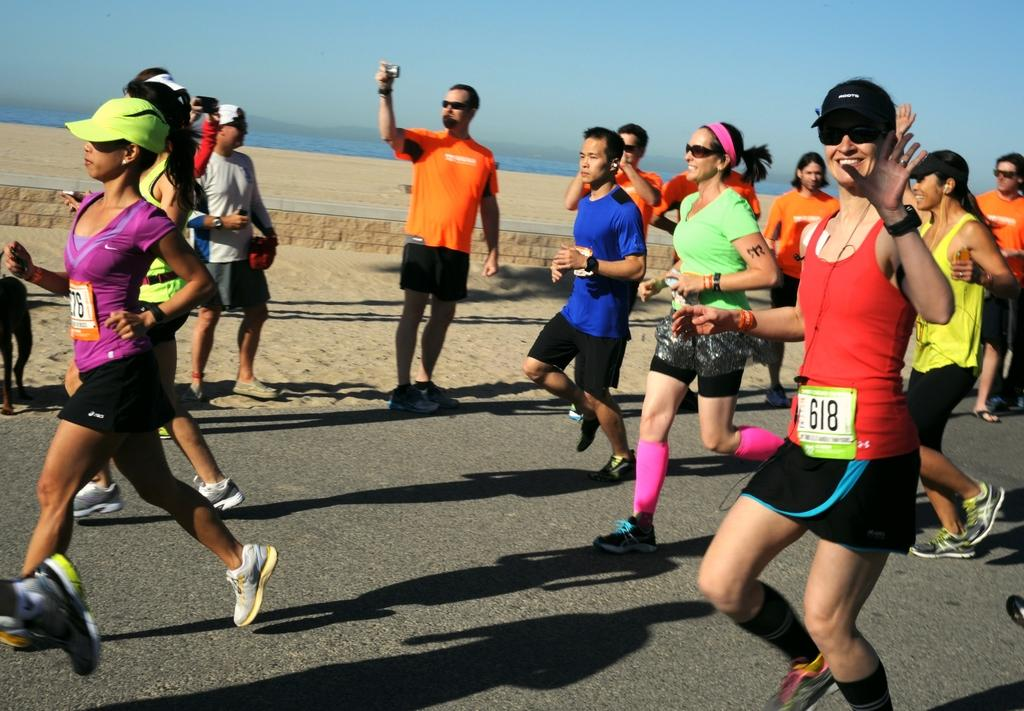Hat: (62, 99, 170, 155), (810, 76, 900, 138), (217, 104, 246, 123)
